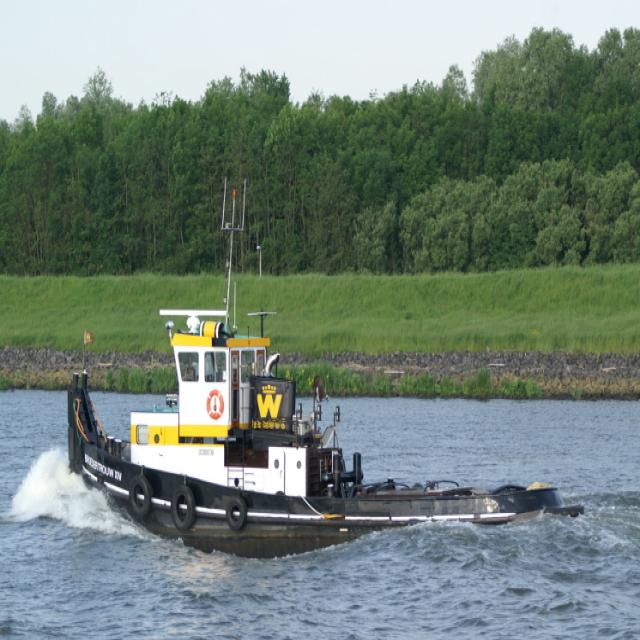tugboat: (61, 171, 597, 581)
